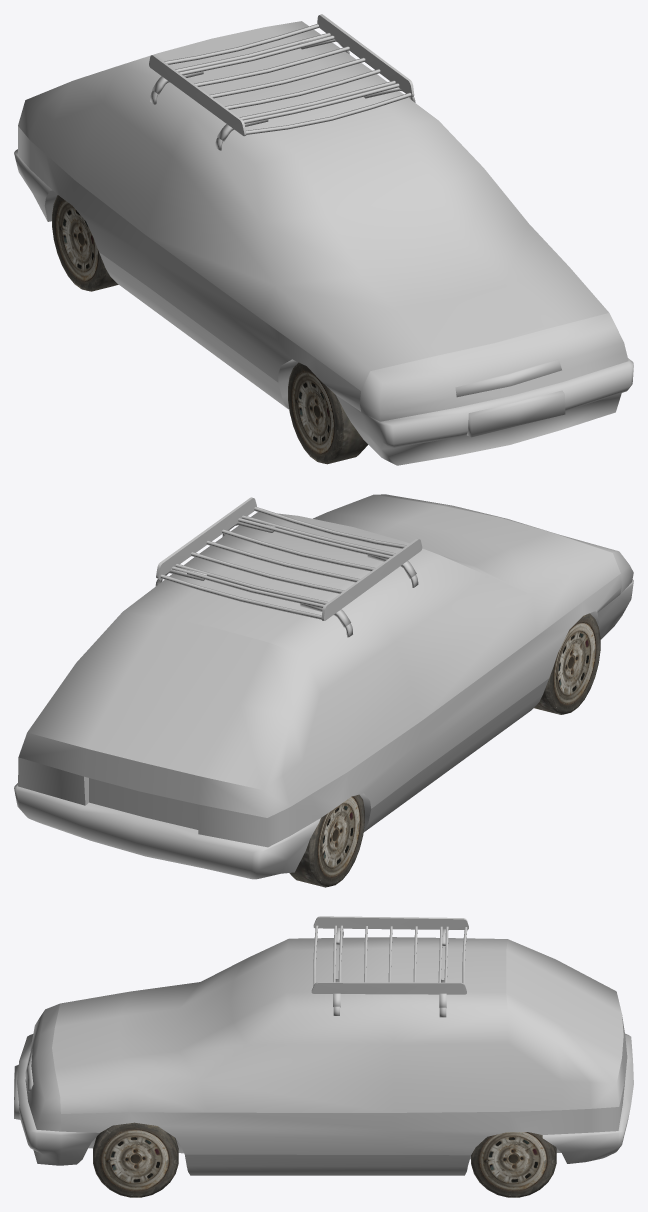
The picture shows the model from 3 angles, top to bottom: view 1: azimuth 30°, elevation 25°; view 2: azimuth 150°, elevation 25°; view 3: azimuth 270°, elevation 25°; orthographic projection. The views are drawn at different scales.
Parts seen in each view (by area): view 1: Lada, Cylinder.002, Cylinder.003; view 2: Lada, Cylinder.003, Cylinder.002; view 3: Lada, Cylinder, Cylinder.001.
Part boxes in pixels (x1=…): Lada: x1=14, y1=14, x2=633, y2=465; Cylinder.002: x1=288, y1=362, x2=368, y2=464; Cylinder.003: x1=52, y1=195, x2=118, y2=291; Lada: x1=14, y1=494, x2=633, y2=879; Cylinder.003: x1=289, y1=794, x2=364, y2=887; Cylinder.002: x1=534, y1=613, x2=600, y2=714; Lada: x1=14, y1=916, x2=633, y2=1175; Cylinder: x1=93, y1=1122, x2=178, y2=1197; Cylinder.001: x1=471, y1=1132, x2=556, y2=1197.
Bounding box in the file's own units: 1.65 × 1.4 × 3.99.
